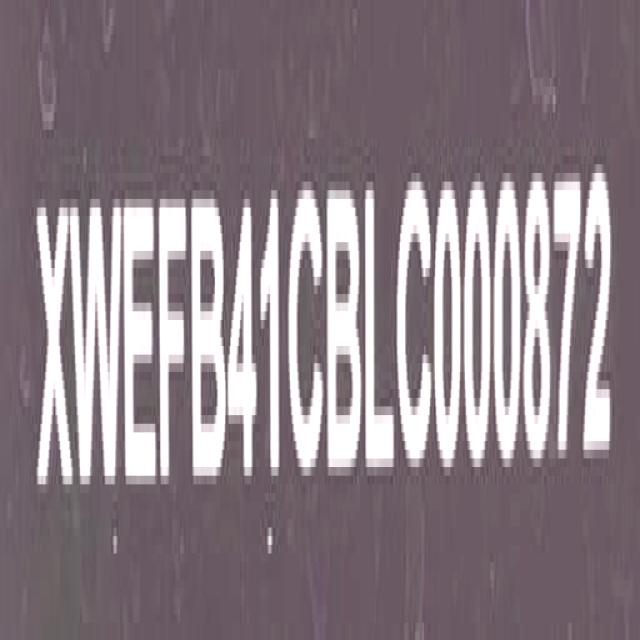0: (434, 173, 463, 478), (494, 175, 522, 471), (464, 173, 490, 472)
1: (261, 184, 285, 493)
2: (585, 164, 616, 465)
4: (227, 188, 259, 495)
7: (555, 165, 583, 467)
8: (524, 170, 554, 471)
B: (329, 178, 365, 491), (191, 186, 223, 500)
C: (288, 181, 328, 494), (399, 178, 434, 484)
E: (125, 185, 160, 499)
F: (158, 179, 186, 506)
L: (365, 178, 397, 489)
W: (71, 188, 125, 504)
X: (34, 188, 71, 504)
